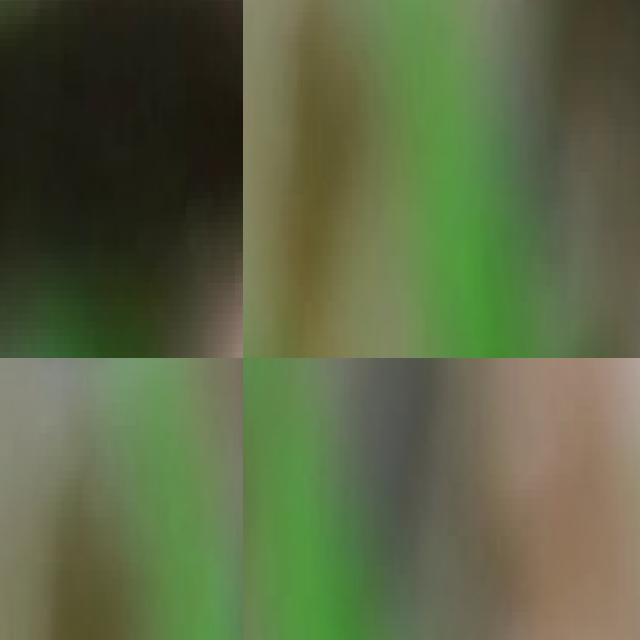fish: (0, 0, 243, 358), (495, 0, 640, 358)
